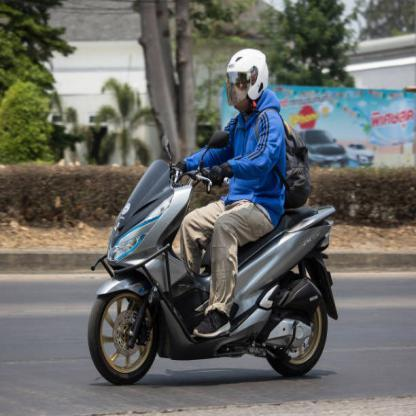Motorcycle: (82, 143, 334, 383)
